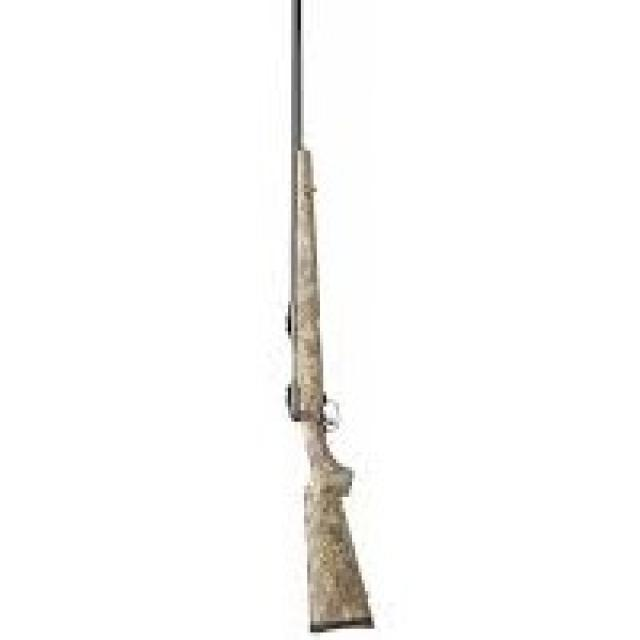rifle: (275, 1, 388, 640)
